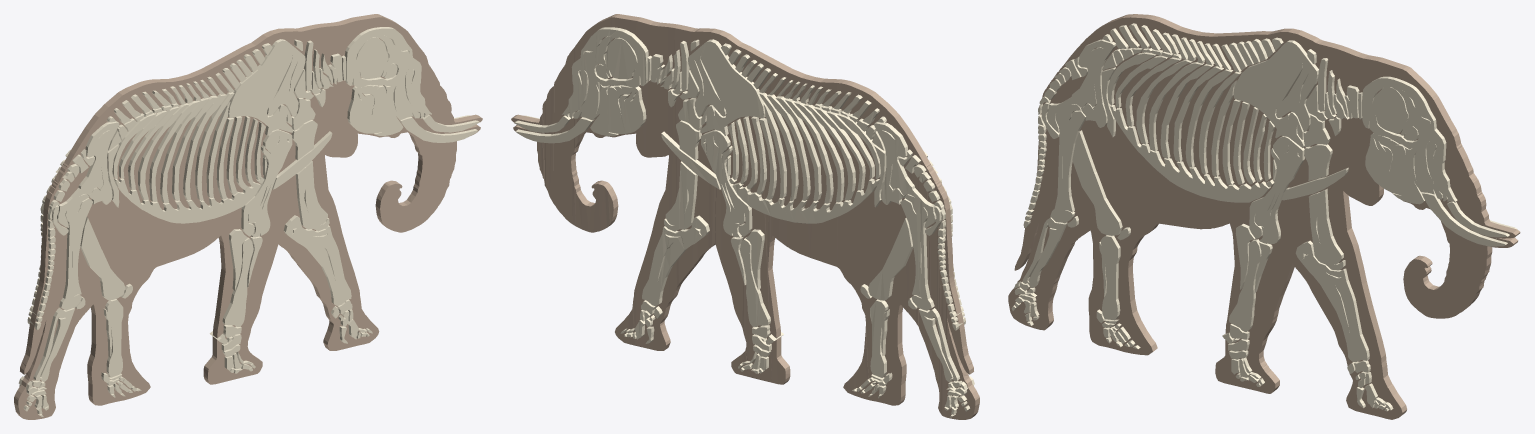
Rendered from 1national.glb.
3 renders of one model, left to right at view 1: azimuth 30°, elevation 25°; view 2: azimuth 150°, elevation 25°; view 3: azimuth 330°, elevation 25°, orthographic. The views are drawn at different scales.
Bounding box in the file's own units: 0.1276 × 0.0882 × 0.00457.
